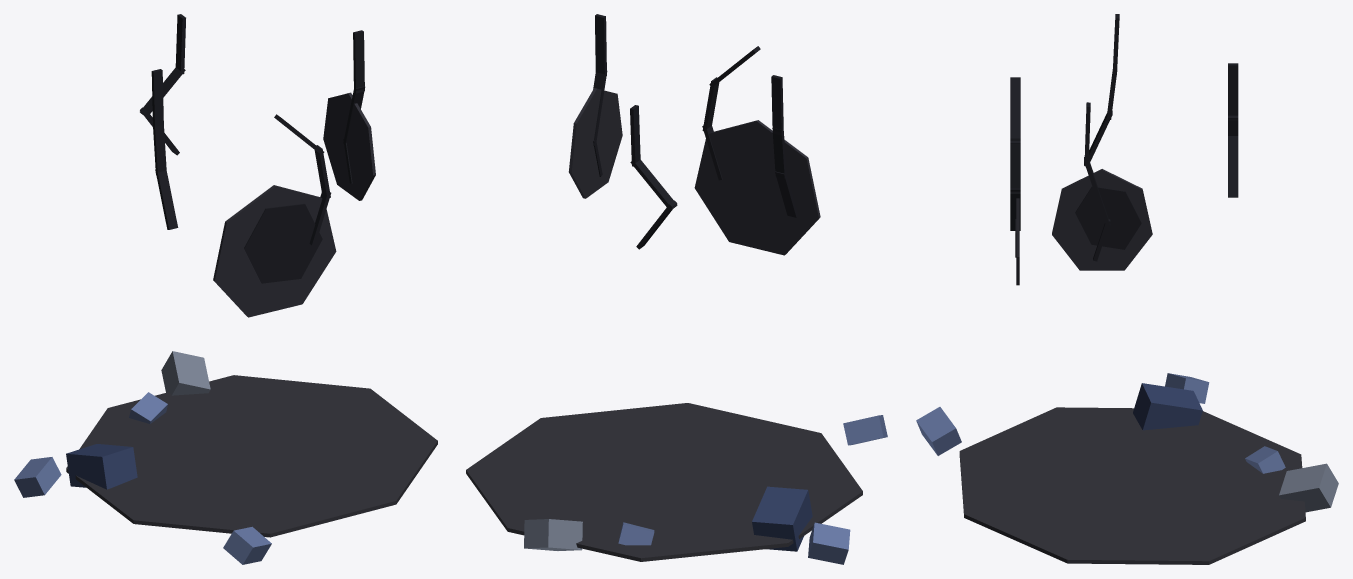
File: wall_dmg_2_1.glb
3 views of the same model, side by side, from view 1: azimuth 30°, elevation 25°; view 2: azimuth 150°, elevation 25°; view 3: azimuth 270°, elevation 25° (orthographic). The views are drawn at different scales.
Parts seen in each view (by area): view 1: body; view 2: body; view 3: body.
Part boxes in pixels (x1=…): body: x1=14, y1=14, x2=437, y2=564; body: x1=466, y1=14, x2=887, y2=564; body: x1=916, y1=14, x2=1338, y2=564.
Size of the model in its own units: 2.05 by 2.33 by 2.04.
